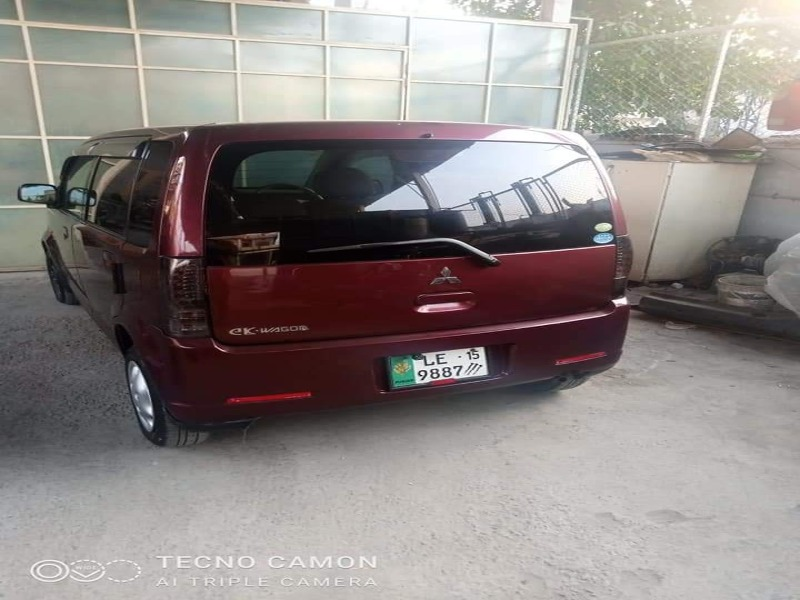License Plate: (381, 346, 491, 390)
